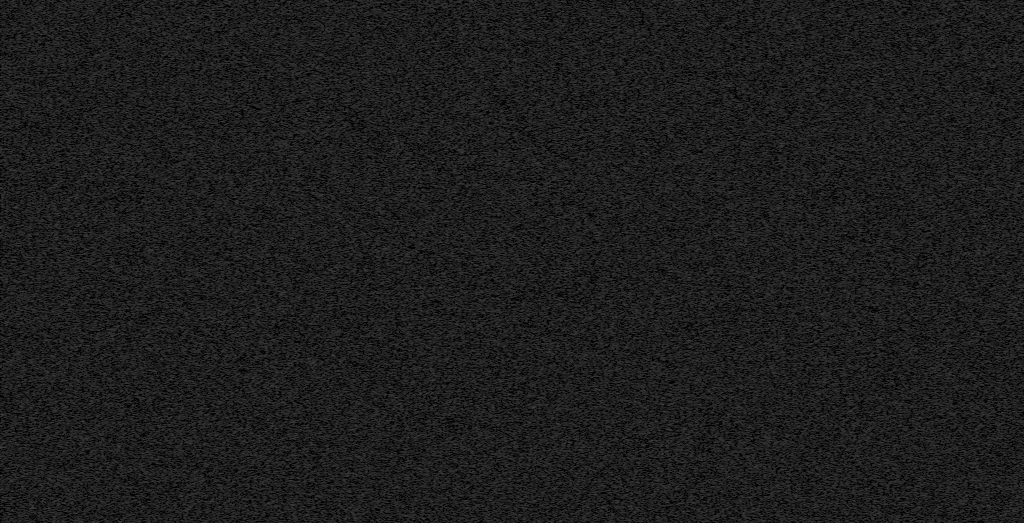wv_am: (102, 0, 108, 522), (841, 0, 847, 522), (776, 0, 781, 522)
wv_cw: (970, 0, 975, 522), (804, 0, 809, 522)
wv_lsb: (109, 133, 114, 233), (109, 234, 114, 301), (109, 324, 114, 369), (109, 459, 114, 485), (109, 112, 114, 132), (109, 418, 113, 440), (110, 58, 113, 87), (109, 370, 113, 391), (109, 394, 114, 410), (109, 441, 113, 458), (109, 7, 114, 19), (109, 311, 113, 323), (109, 302, 114, 310), (110, 47, 113, 57), (110, 22, 113, 32), (109, 486, 113, 493), (110, 511, 113, 520), (110, 35, 113, 44), (110, 502, 113, 510), (110, 94, 113, 102), (110, 495, 113, 501), (110, 103, 113, 107)
wv_usb: (970, 314, 975, 430), (970, 101, 975, 174), (970, 12, 975, 73), (970, 453, 975, 512), (970, 243, 975, 291), (970, 197, 975, 234), (970, 74, 975, 97), (970, 431, 975, 452), (970, 292, 975, 313), (970, 175, 975, 196), (968, 514, 976, 522), (970, 235, 974, 242)
wv_wbfm: (956, 0, 972, 522)
